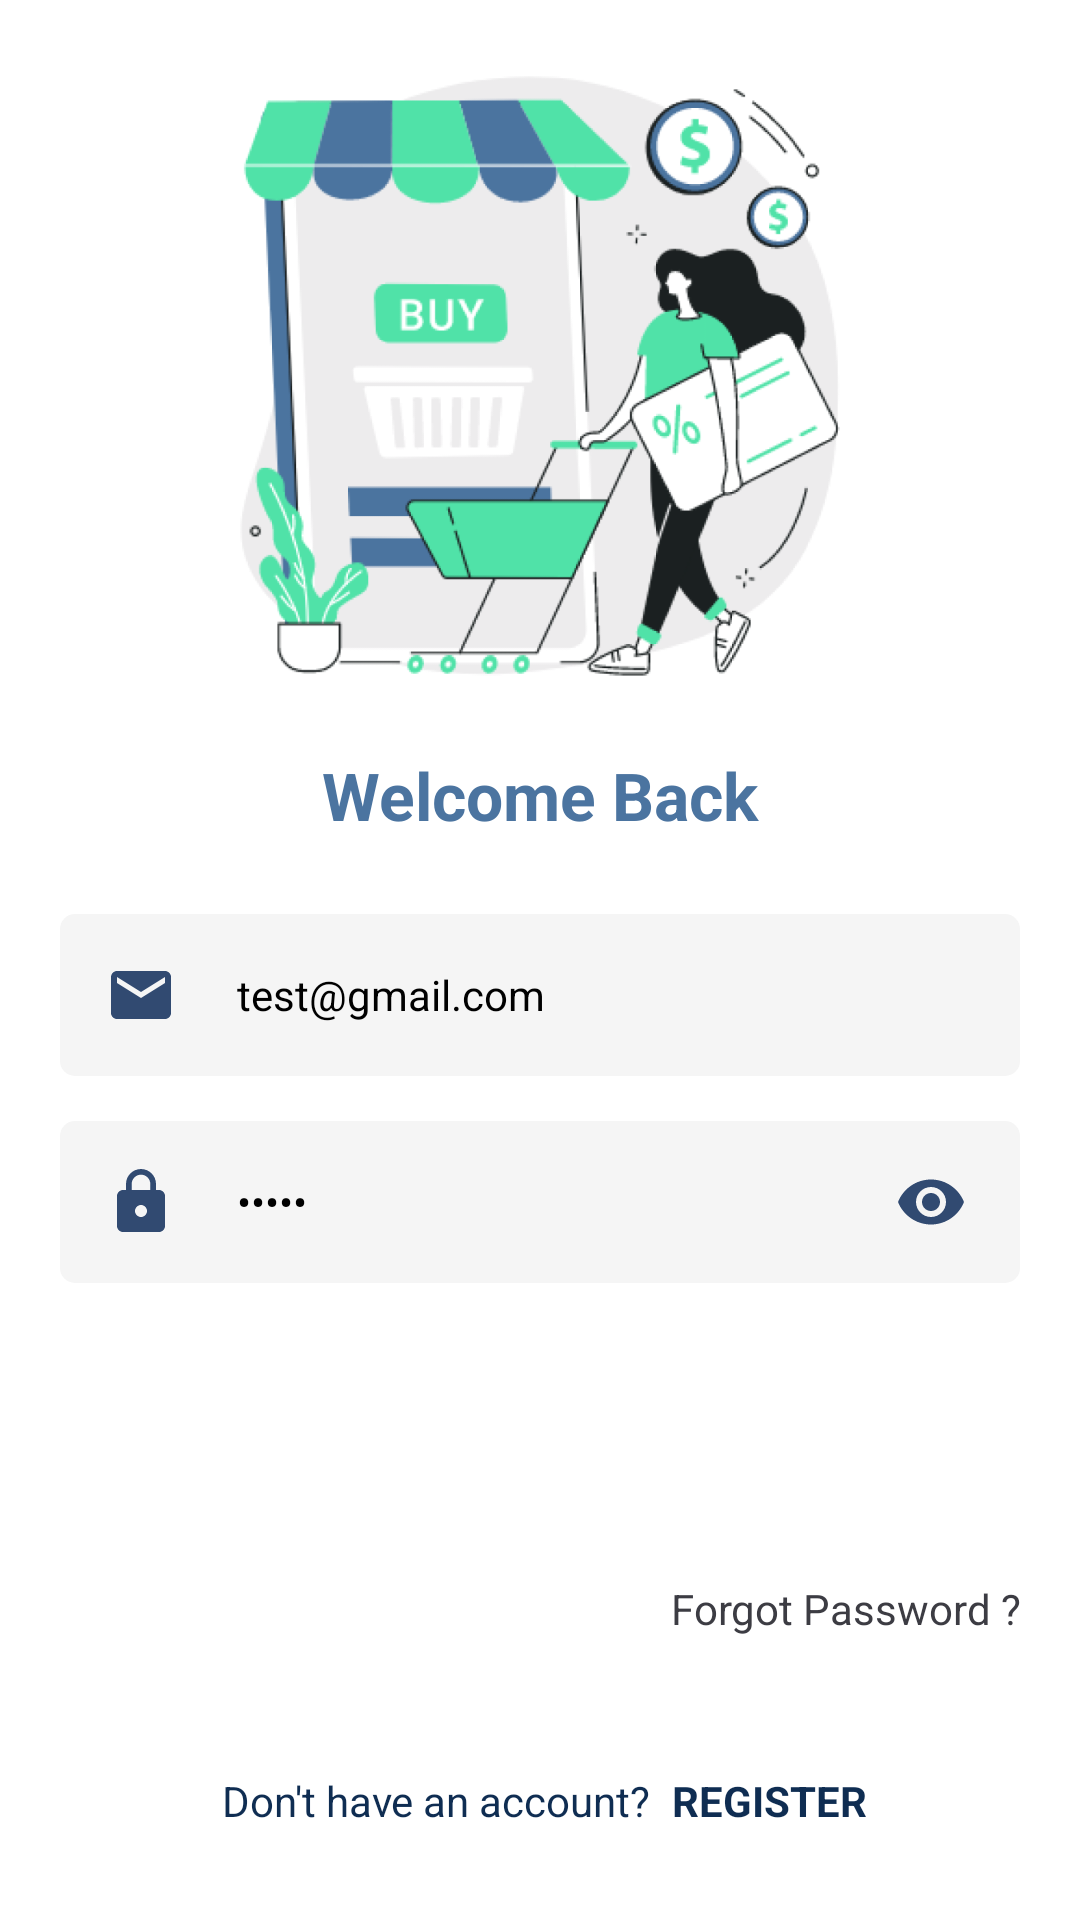

Named icons in this screenshot (1080×1920) and their bounding boxes, (x1, y1, x2, y2):
eye: (898, 1179, 964, 1225)
